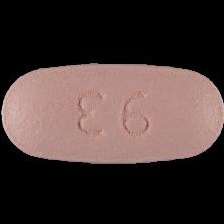54868-0795: (0, 0, 224, 224)
